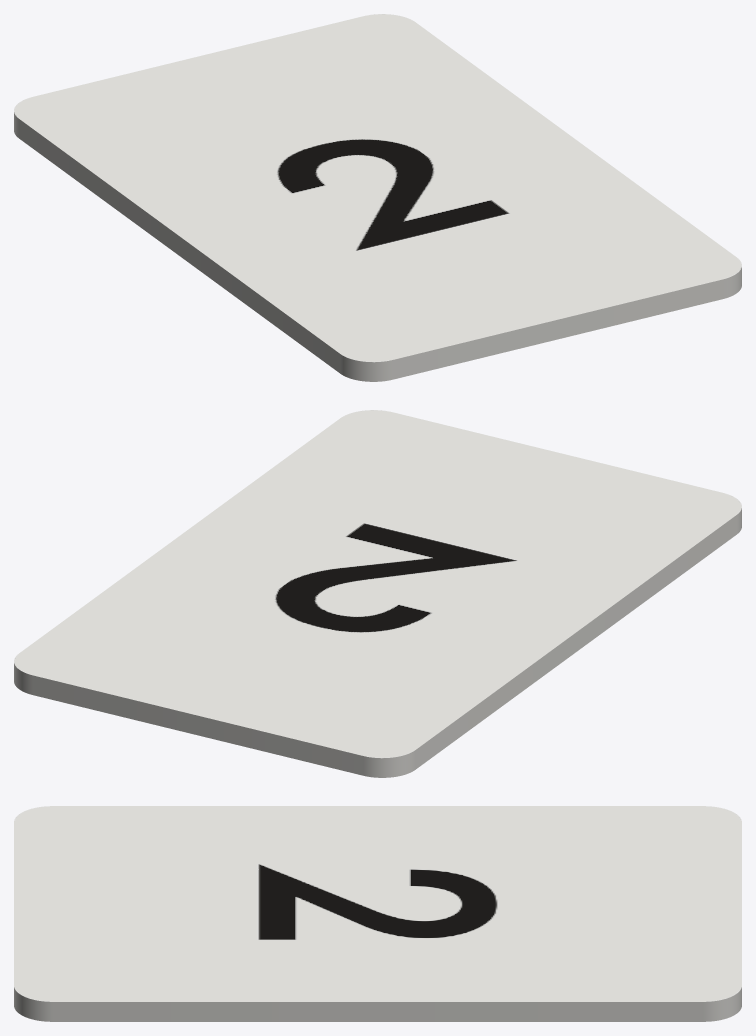
Rendered from white_2.glb.
3 views of the same model, one above another, from view 1: azimuth 30°, elevation 25°; view 2: azimuth 150°, elevation 25°; view 3: azimuth 270°, elevation 25° (orthographic).
Parts seen in each view (by area): view 1: white_2; view 2: white_2; view 3: white_2.
Boxes of the visible parts, bbox=[...] form: white_2: bbox=[14, 14, 741, 381]; white_2: bbox=[14, 410, 741, 777]; white_2: bbox=[14, 806, 741, 1021].
Size of the model in its own units: 0.042 by 0.002 by 0.066.
2 materials, 1 textured.
